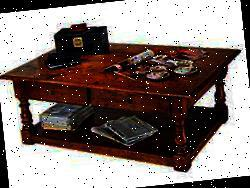Mesa: (0, 25, 249, 187)
